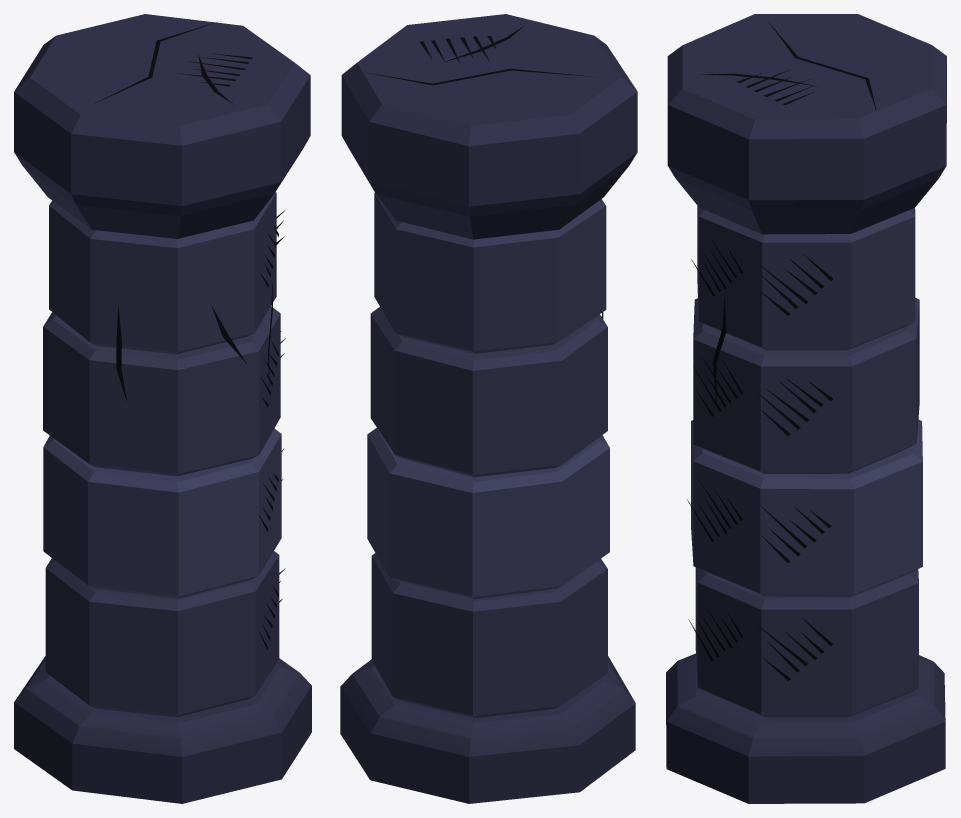
The model's file is pillar.glb.
The picture shows the model from 3 angles, left to right: view 1: azimuth 30°, elevation 25°; view 2: azimuth 150°, elevation 25°; view 3: azimuth 270°, elevation 25°; orthographic projection.
Parts seen in each view (by area): view 1: pillar.001; view 2: pillar.001; view 3: pillar.001.
Part boxes in pixels (x1,y1,x2,y2): pillar.001: (14, 14, 311, 803); pillar.001: (340, 14, 637, 803); pillar.001: (666, 14, 946, 803).
Size of the model in its own units: 1.5 by 4 by 1.5.
